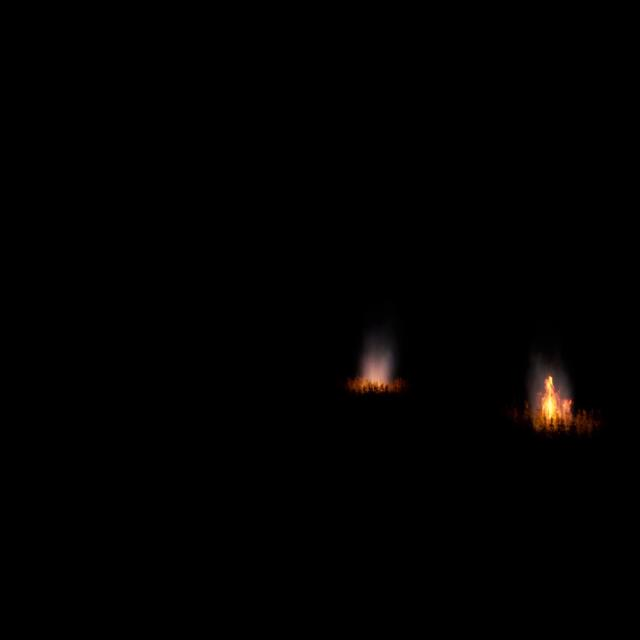fire: (542, 375, 572, 422)
smoke: (528, 356, 576, 424), (362, 339, 398, 386)
